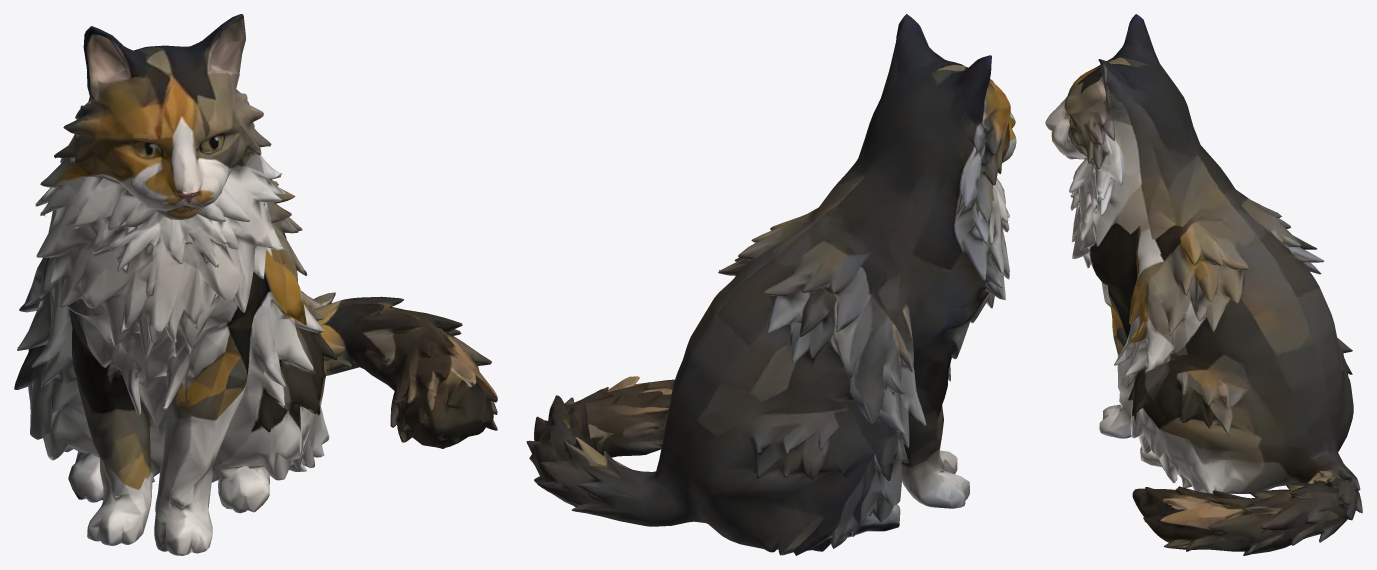
Rendered from croquete.glb.
The picture shows the model from 3 angles, left to right: view 1: azimuth 30°, elevation 25°; view 2: azimuth 150°, elevation 25°; view 3: azimuth 270°, elevation 25°; orthographic projection. The views are drawn at different scales.
Parts seen in each view (by area): view 1: tripo_node_4019bd39-7add-4bfc-8569-9c47b69ce6df; view 2: tripo_node_4019bd39-7add-4bfc-8569-9c47b69ce6df; view 3: tripo_node_4019bd39-7add-4bfc-8569-9c47b69ce6df.
Boxes of the visible parts, x1,y1,x2,y2 form: tripo_node_4019bd39-7add-4bfc-8569-9c47b69ce6df: (14,14,497,555); tripo_node_4019bd39-7add-4bfc-8569-9c47b69ce6df: (526,14,1016,555); tripo_node_4019bd39-7add-4bfc-8569-9c47b69ce6df: (1045,14,1362,555).
Bounding box in the file's own units: 0.5326 × 0.5517 × 0.4082.
Materials: 1 (1 with a texture image).
